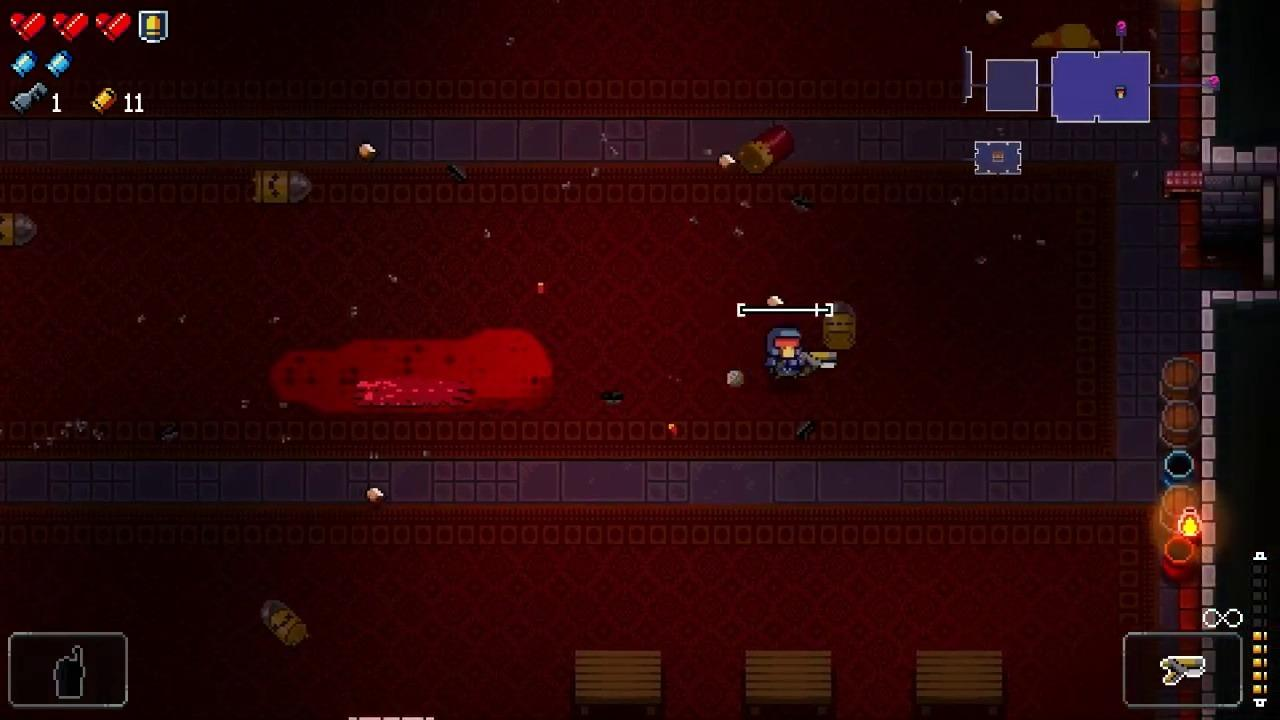dead_apprentice_gunjurer: (1033, 24, 1101, 49)
dead_bullet_kin: (261, 599, 311, 647), (252, 168, 313, 202), (824, 300, 856, 351)
dead_red_shotgun_kin: (735, 125, 794, 173)
player: (766, 326, 803, 382)
table: (576, 650, 662, 715), (918, 650, 1002, 716), (745, 650, 832, 713)
unlocked_door: (1261, 171, 1275, 289)
